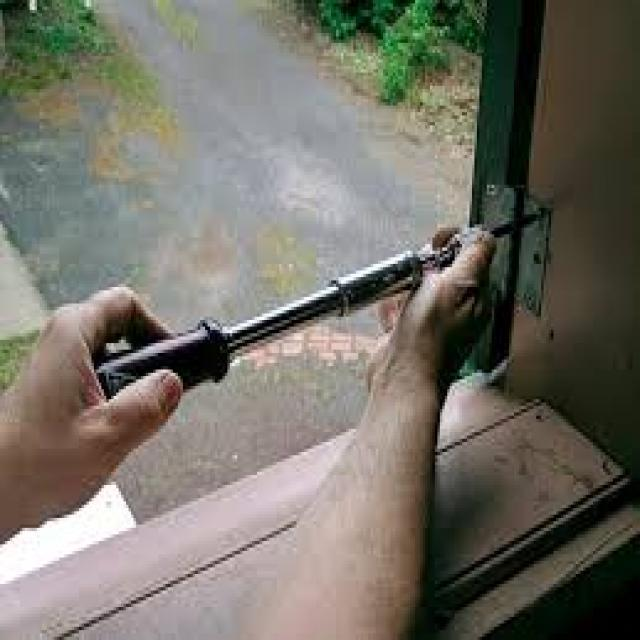screwdriver: (90, 214, 533, 406)
